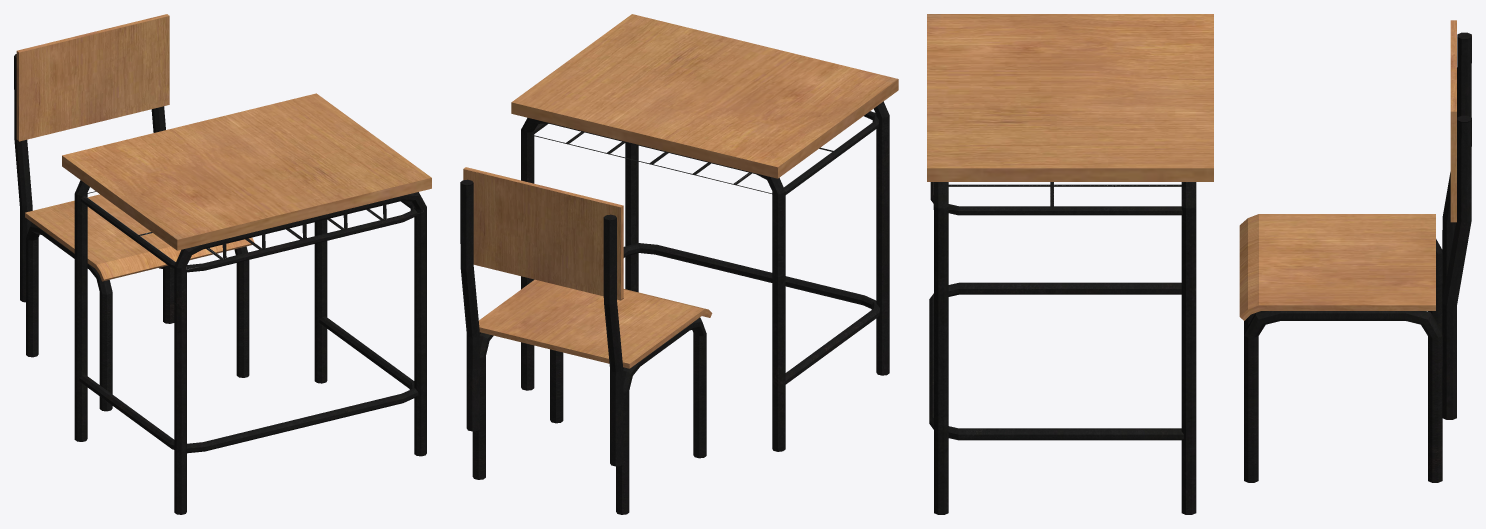
The model's file is school chair.obj.
3 views of the same model, side by side, from view 1: azimuth 30°, elevation 25°; view 2: azimuth 150°, elevation 25°; view 3: azimuth 270°, elevation 25° (orthographic). The views are drawn at different scales.
Visible parts, largest first — view 1: Cube.001, Cube; view 2: Cube.001, Cube; view 3: Cube.001, Cube.
Part boxes in pixels (box(x1,y1,x2,y2)): Cube.001: box(62, 93, 431, 514); Cube: box(14, 14, 254, 411); Cube.001: box(511, 14, 898, 451); Cube: box(460, 167, 712, 514); Cube.001: box(927, 14, 1213, 514); Cube: box(1239, 20, 1471, 482).
Bounding box in the file's own units: 4.17 × 4.68 × 6.22.
Materials: 2 (2 with a texture image).
